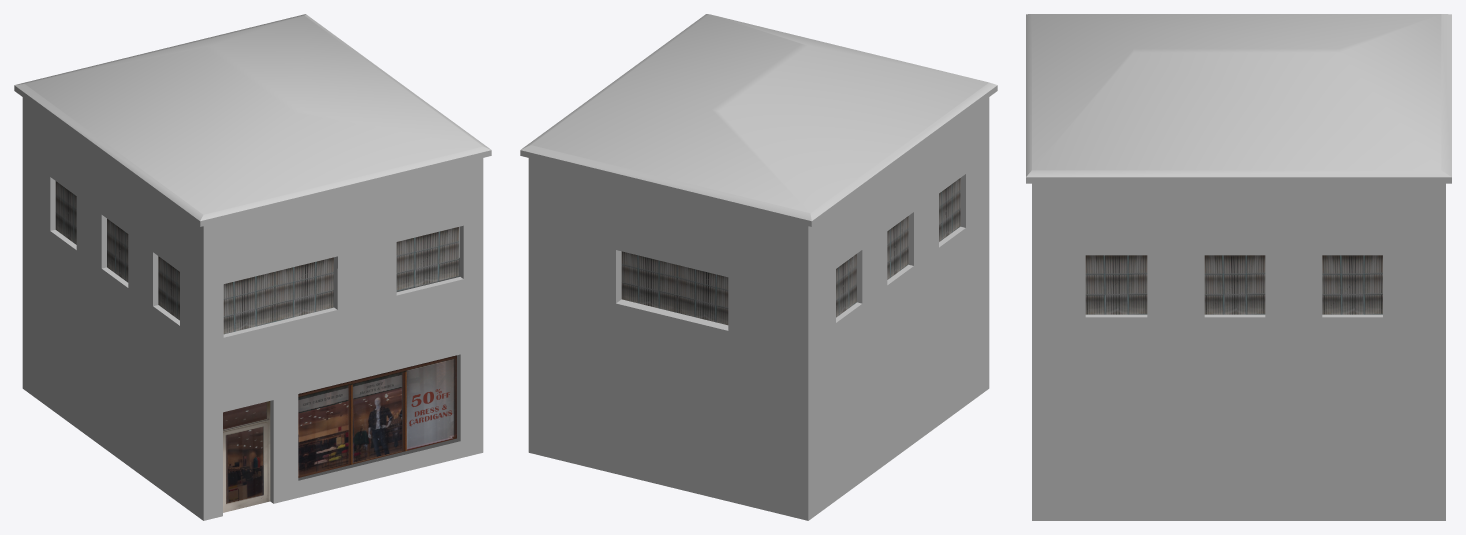
3 renders of one model, left to right at view 1: azimuth 30°, elevation 25°; view 2: azimuth 150°, elevation 25°; view 3: azimuth 270°, elevation 25°, orthographic. The views are drawn at different scales.
Visible parts, largest first — view 1: B13; view 2: B13; view 3: B13.
Part boxes in pixels (box(x1,y1,x2,y2)): B13: box(14, 14, 491, 520); B13: box(520, 14, 997, 520); B13: box(1026, 14, 1451, 520).
Bounding box in the file's own units: 1322 × 1482 × 1460.
